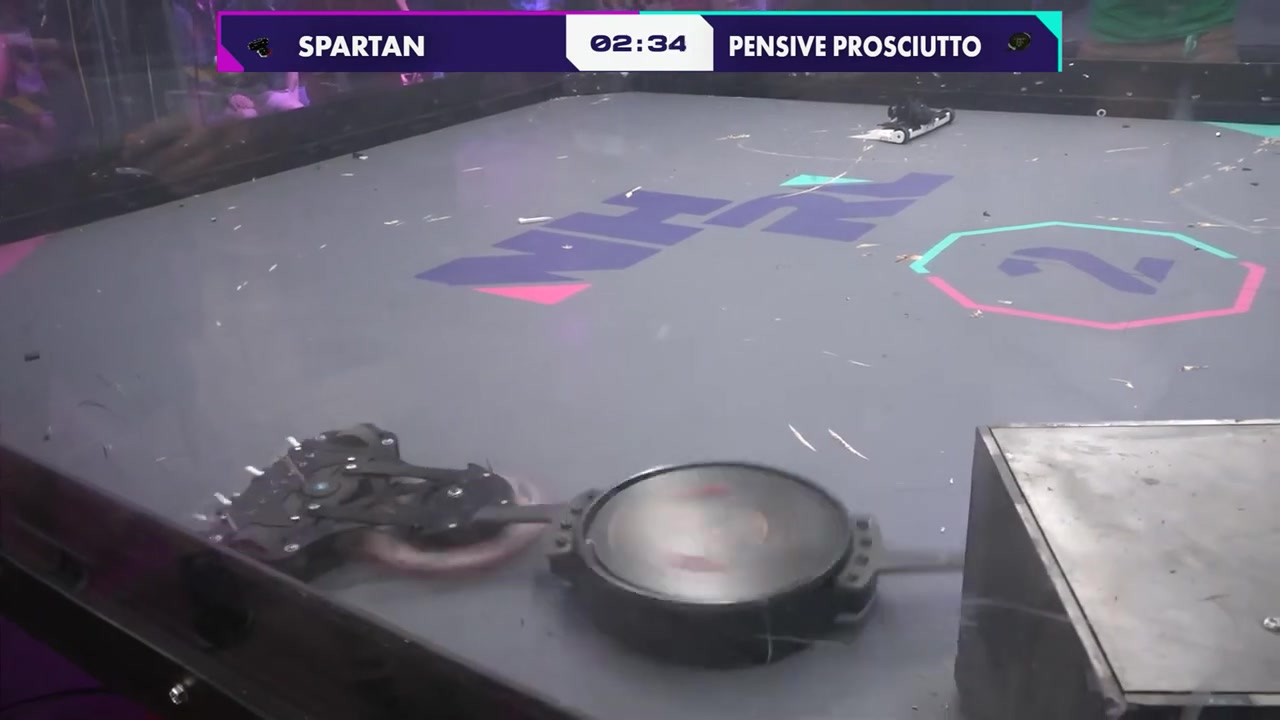combatbot: (541, 458, 882, 669), (201, 424, 530, 582), (862, 100, 955, 146)
housebot: (951, 420, 1280, 720)
